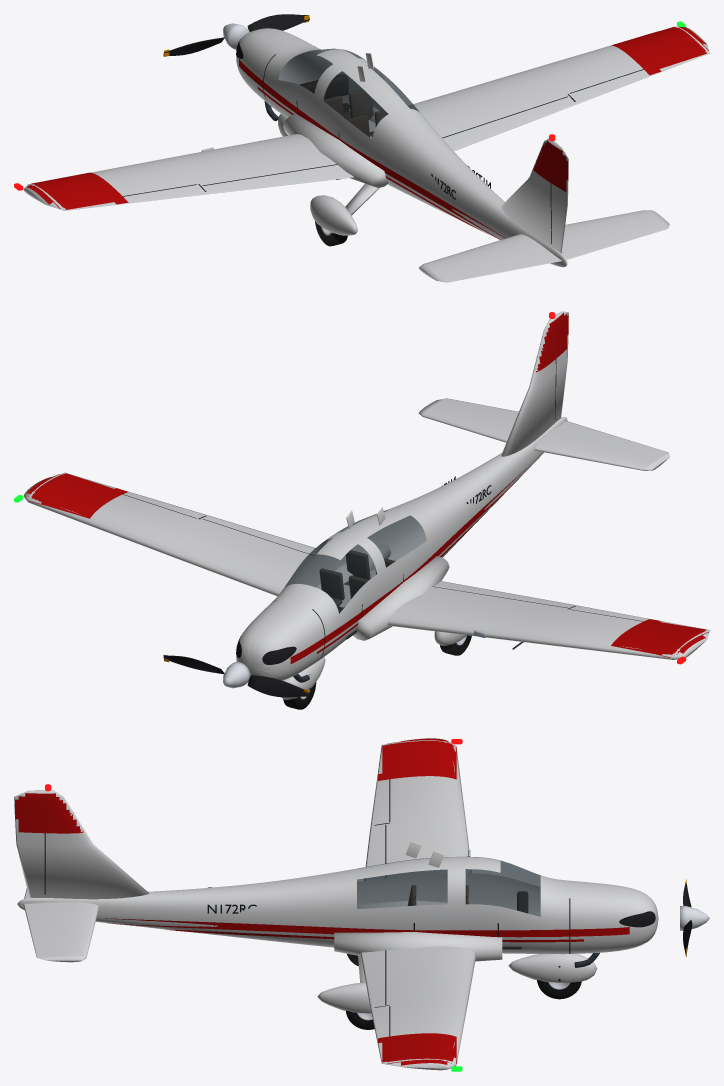
The model's file is SmallPlane.fbx.
The picture shows the model from 3 angles, top to bottom: view 1: azimuth 30°, elevation 25°; view 2: azimuth 150°, elevation 25°; view 3: azimuth 270°, elevation 25°; orthographic projection.
Parts seen in each view (by area): view 1: SmallPlane_Body, SmallPlane_Glass, SmallPlane_Trim, SmallPlane_Spin1; view 2: SmallPlane_Body, SmallPlane_Glass, SmallPlane_Trim, SmallPlane_Spin1; view 3: SmallPlane_Body, SmallPlane_Glass, SmallPlane_Trim, SmallPlane_Spin1, SmallPlane_Wheel1.
Part boxes in pixels (box(x1,y1,x2,y2)): SmallPlane_Body: box(23, 26, 709, 282); SmallPlane_Glass: box(278, 48, 419, 138); SmallPlane_Trim: box(123, 39, 643, 243); SmallPlane_Spin1: box(163, 14, 309, 56); SmallPlane_Body: box(23, 311, 709, 699); SmallPlane_Glass: box(284, 510, 426, 613); SmallPlane_Trim: box(123, 325, 643, 689); SmallPlane_Spin1: box(163, 654, 309, 697); SmallPlane_Body: box(14, 738, 658, 1070); SmallPlane_Glass: box(357, 856, 540, 916); SmallPlane_Trim: box(44, 779, 655, 1036); SmallPlane_Spin1: box(680, 879, 709, 957); SmallPlane_Wheel1: box(537, 980, 581, 999).
Bounding box in the file's own units: 34.35 × 10.28 × 30.65.
